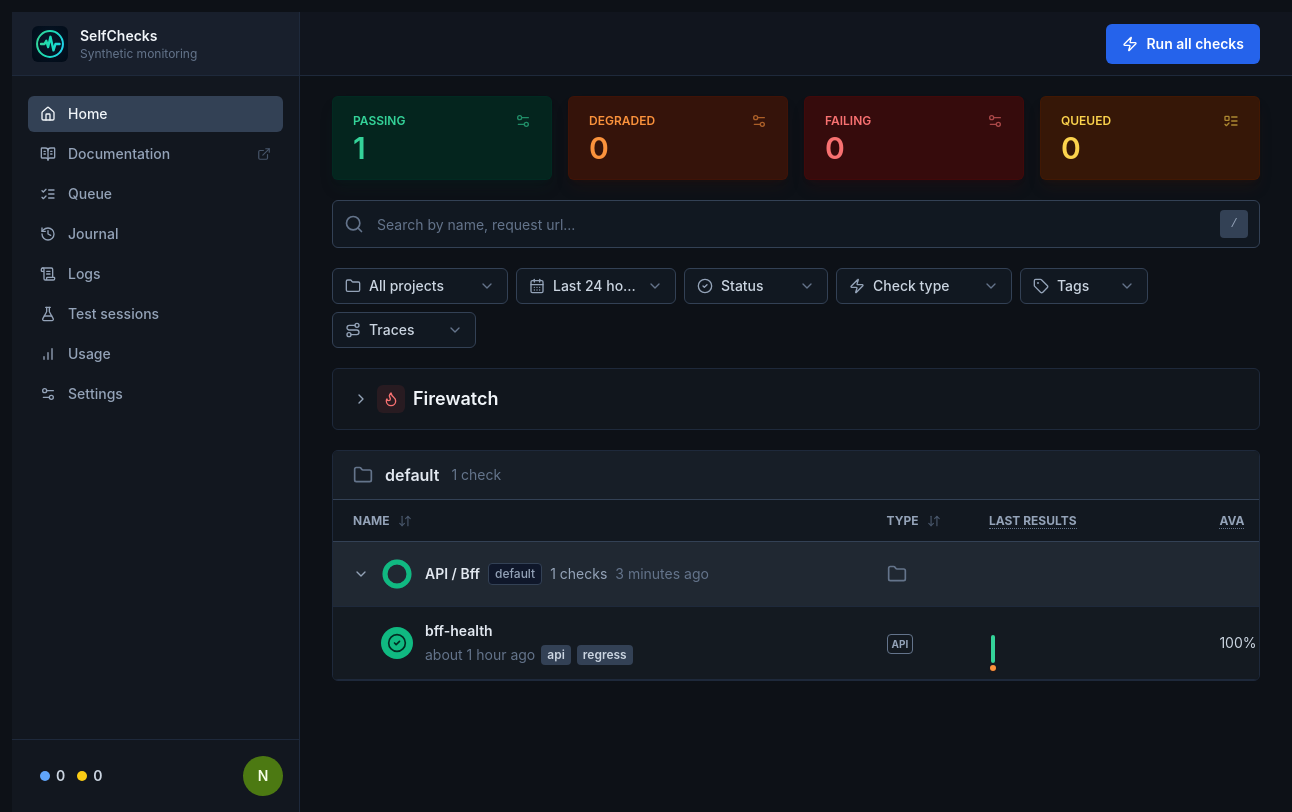
Test: DashboardPage › renders grouped retry result bars with all attempts and a retry marker
The image size is (1292, 812).
Hover over the link named "Passing Local runner 28.64 s Jul 08 17:22 2 attempts" at (993, 653), box 990,635 -> 996,671
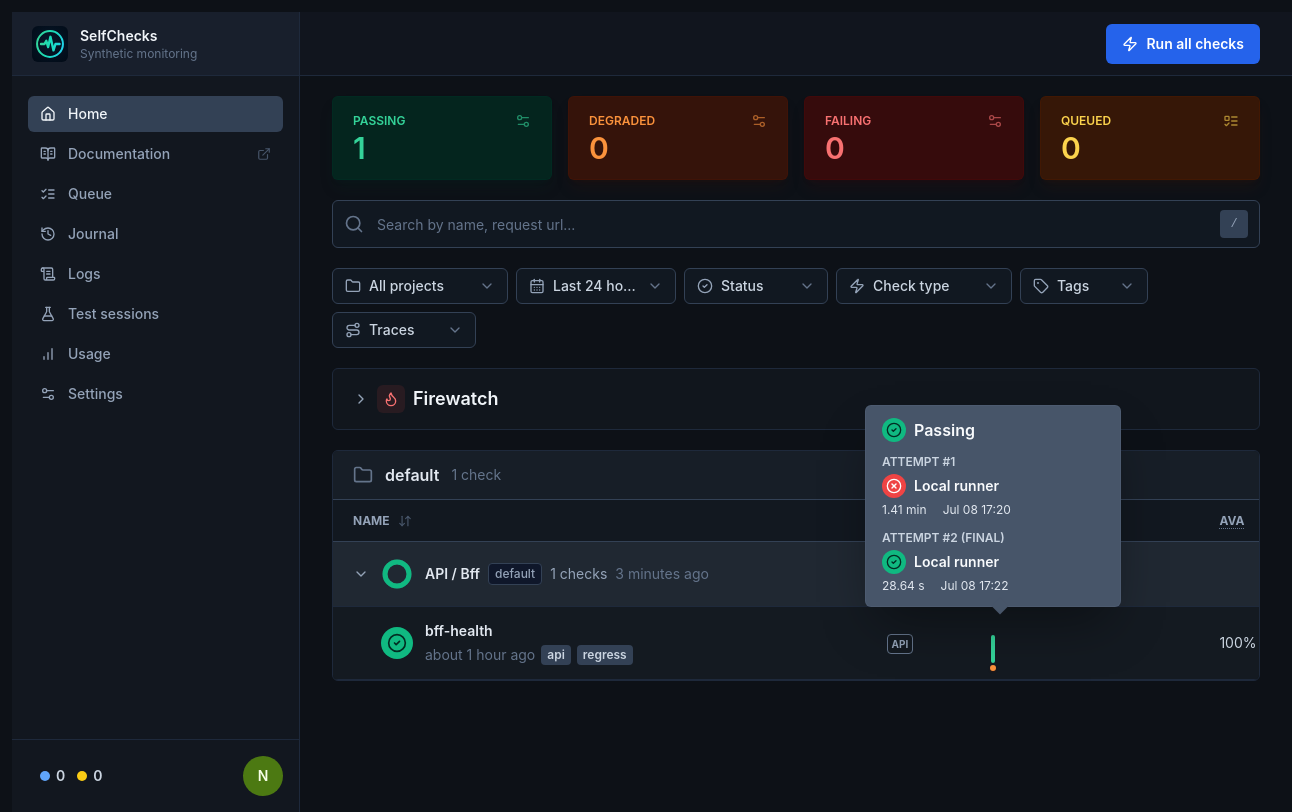
Expected: the text "Attempt #1" is shown, 882,454 -> 955,469
Expected: the text "Attempt #2 (final)" is shown, 882,530 -> 1005,545
Expected: the text "1.41 min" is shown, 882,502 -> 927,518
